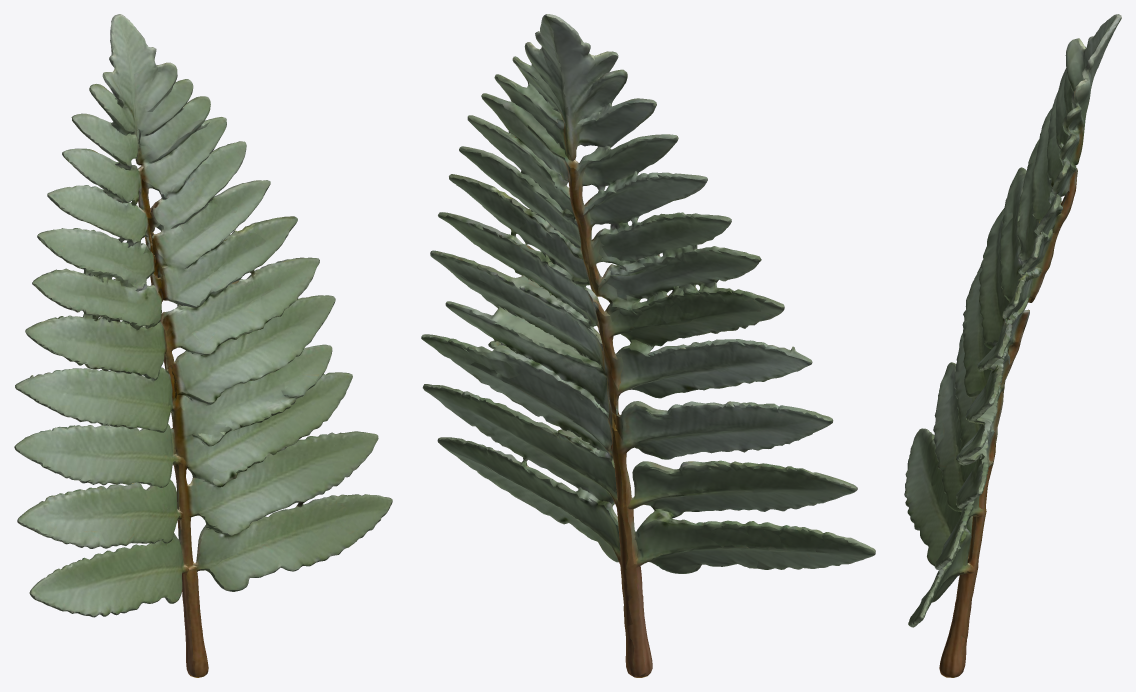
Rendered from lux-leatherleaf.glb.
3 renders of one model, left to right at view 1: azimuth 30°, elevation 25°; view 2: azimuth 150°, elevation 25°; view 3: azimuth 270°, elevation 25°, orthographic. The views are drawn at different scales.
Visible parts, largest first — view 1: geometry_0; view 2: geometry_0; view 3: geometry_0.
Part boxes in pixels (bbox=[...]): geometry_0: bbox=[14, 14, 392, 677]; geometry_0: bbox=[421, 14, 875, 677]; geometry_0: bbox=[904, 14, 1121, 677].
Bounding box in the file's own units: 0.45 × 0.7169 × 0.215.
1 material, 1 textured.
